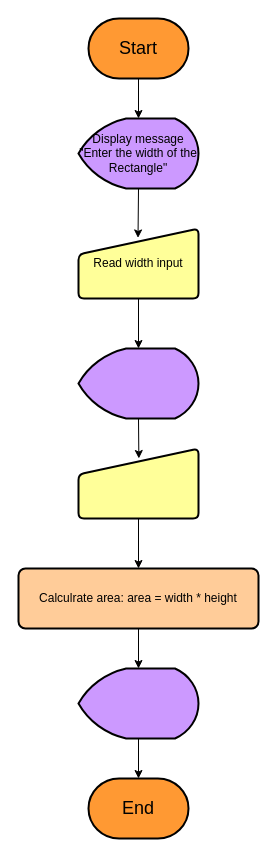
Image size: 276x856. Some labels were removed from this diagram. Here are the shapes that lost their labels. From the top down, the box of each, then its label:
(77, 347, 199, 419): Display message "Enter the height of the Rectangle"
(77, 447, 199, 519): Read height input
(77, 667, 199, 739): Display message "The area of the rectangle is",area
